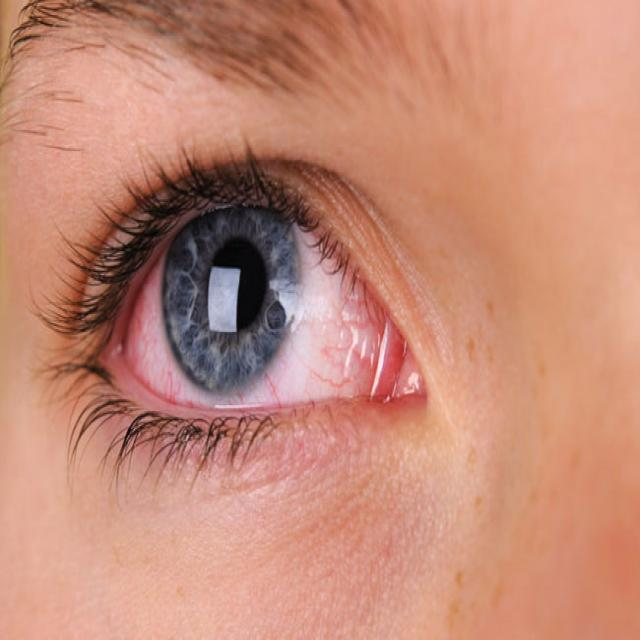eye: (6, 126, 482, 511)
gaze: (159, 190, 310, 398)
